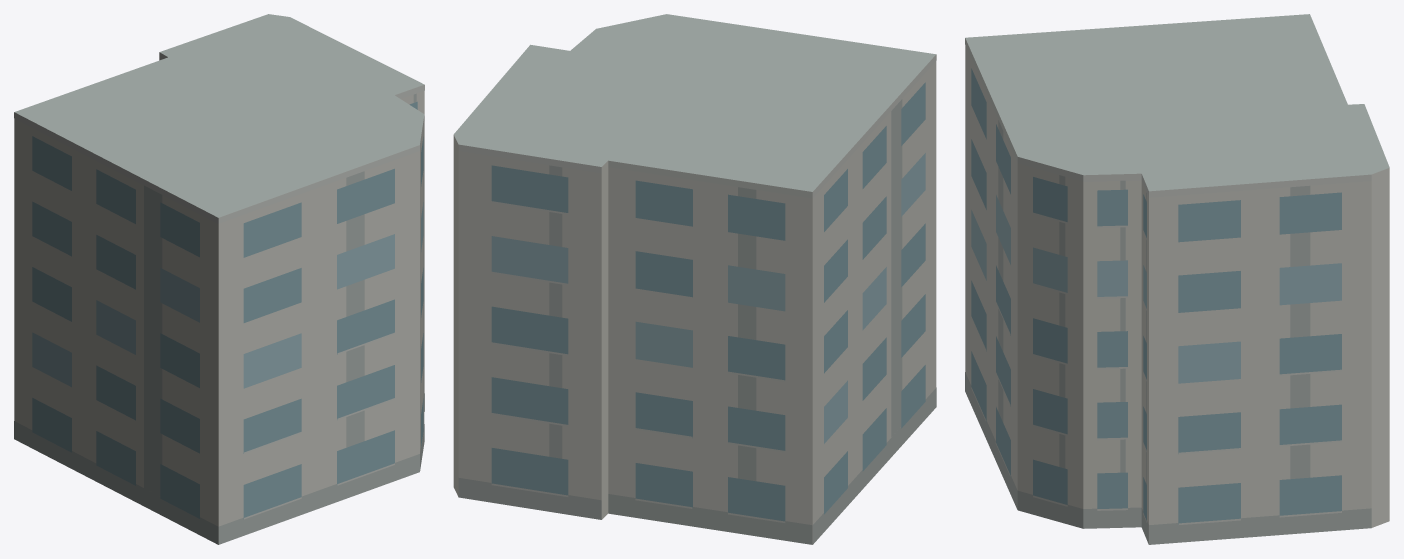
The model's file is survey-upis-32942094.glb.
3 views of the same model, side by side, from view 1: azimuth 30°, elevation 25°; view 2: azimuth 150°, elevation 25°; view 3: azimuth 270°, elevation 25° (orthographic). The views are drawn at different scales.
Parts seen in each view (by area): view 1: survey-upis-32942094.tmp; view 2: survey-upis-32942094.tmp; view 3: survey-upis-32942094.tmp.
Part boxes in pixels (x1,y1,x2,y2): survey-upis-32942094.tmp: [14, 14, 424, 544]; survey-upis-32942094.tmp: [453, 14, 936, 544]; survey-upis-32942094.tmp: [965, 14, 1389, 544].
Size of the model in its own units: 14.1 by 13.1 by 14.27.
